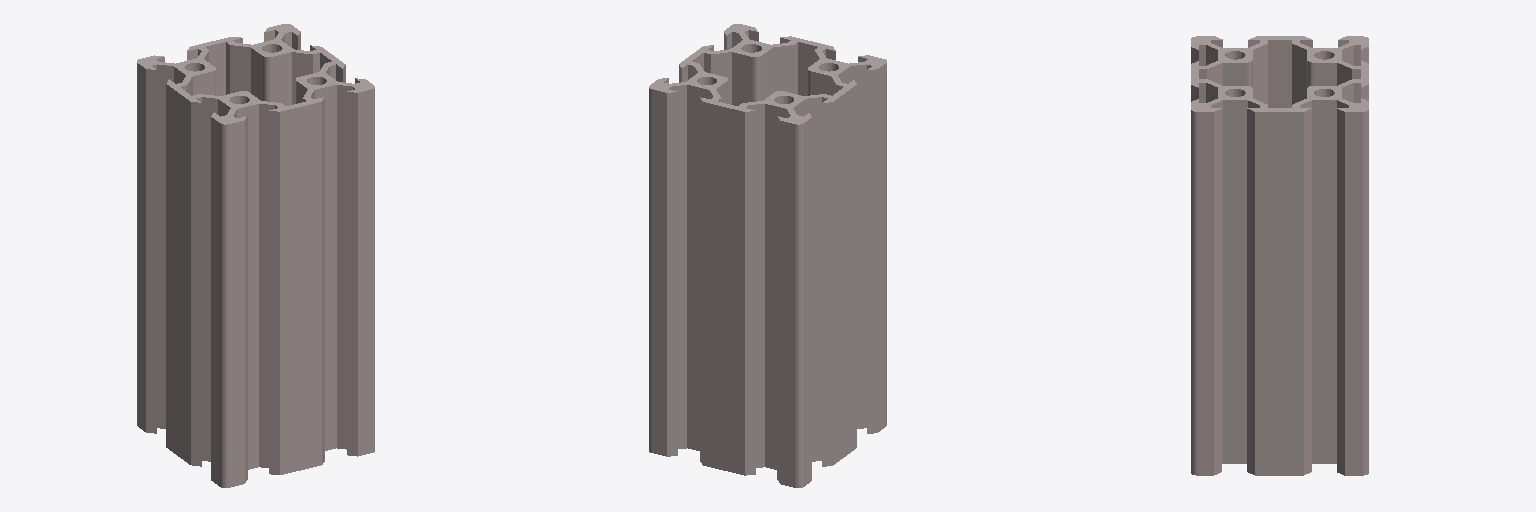
Rendered from v-slot_40x40.obj.
The picture shows the model from 3 angles: view 1: azimuth 30°, elevation 25°; view 2: azimuth 150°, elevation 25°; view 3: azimuth 270°, elevation 25°; orthographic projection.
Visible parts, largest first — view 1: Root|v-slot_40x40_(Default)|Default|metallic_warm_grey; view 2: Root|v-slot_40x40_(Default)|Default|metallic_warm_grey; view 3: Root|v-slot_40x40_(Default)|Default|metallic_warm_grey.
Part boxes in pixels (x1,y1,x2,y2): Root|v-slot_40x40_(Default)|Default|metallic_warm_grey: (137, 24, 374, 487); Root|v-slot_40x40_(Default)|Default|metallic_warm_grey: (649, 24, 886, 487); Root|v-slot_40x40_(Default)|Default|metallic_warm_grey: (1191, 36, 1368, 475).
Size of the model in its own units: 0.04 by 0.09 by 0.04.